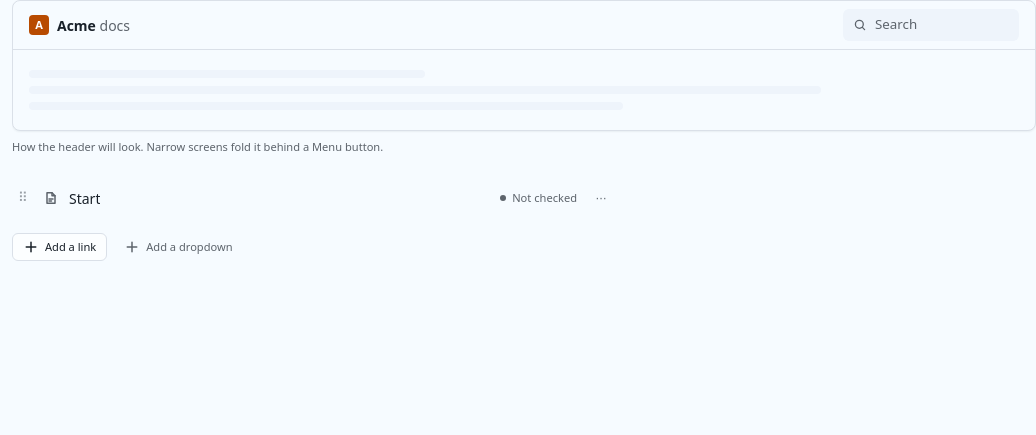
Test: the public menu editor › says so when the targets cannot be looked up
Expected: the text "Not checked" is shown, top-left (500, 190), bottom-right (577, 206)
What coordinates should you click on to do the following:
click the button "Start Not checked"
I would click on:
 (85, 198)
Its box is top-left (37, 180), bottom-right (583, 216).
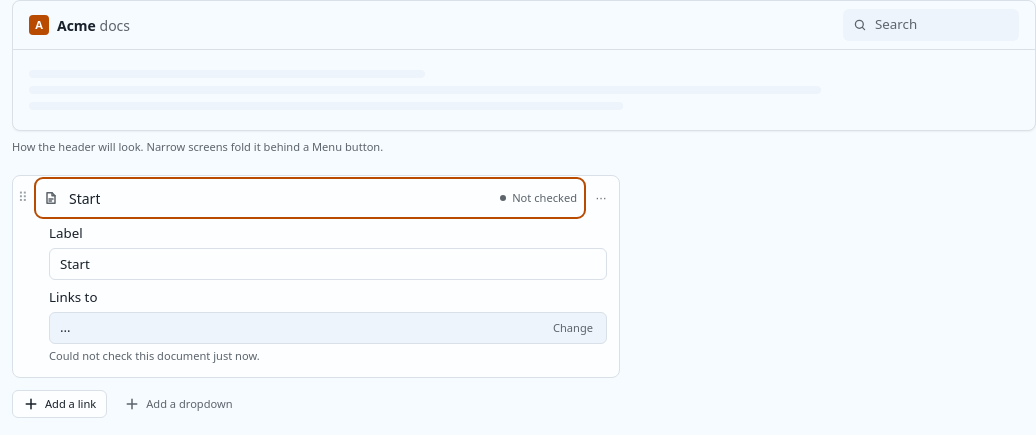
Now the text "Could not check this document just now." is shown, box top-left (49, 348), bottom-right (260, 363)
